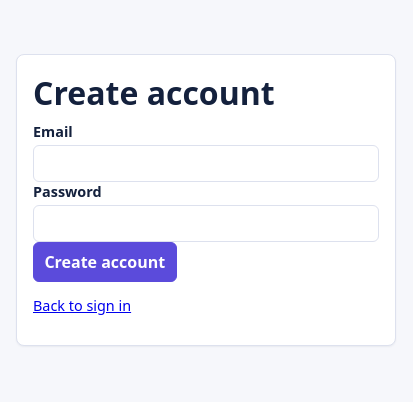
Test: authentication › validates sign-up and shows confirmation
The width and height of the screenshot is (413, 402).
Type "new@x.com" into the field labelled "Email" at (206, 163), box [33,145,379,182]
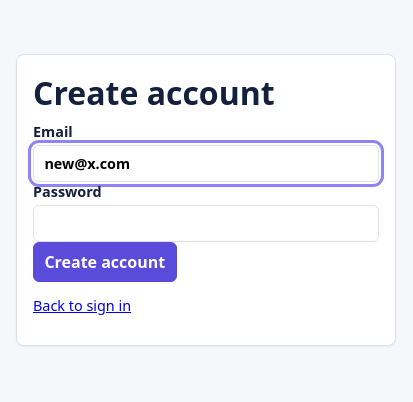
Type "short" into the password field labelled "Password" at (206, 223), box [33,205,379,242]
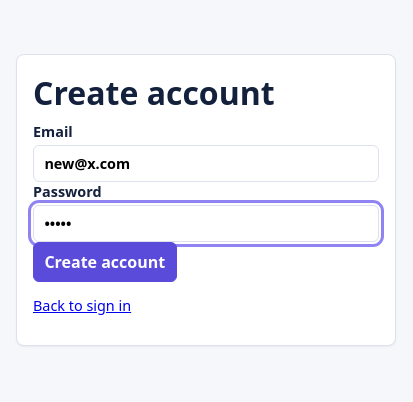
Click the button "Create account" at (105, 262), box [33,242,177,282]
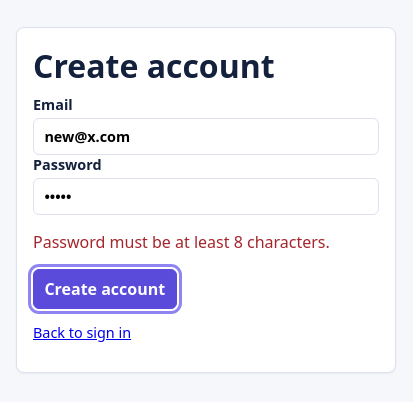
Expected: the message shows "at least 8", [33,231,330,253]
Type "longenough1" into the password field labelled "Password" at (206, 196), box [33,178,379,215]
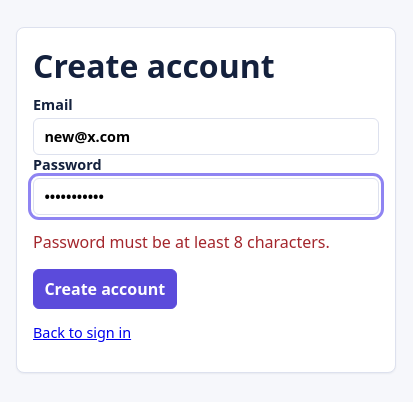
Click the button "Create account" at (105, 289), box [33,269,177,309]
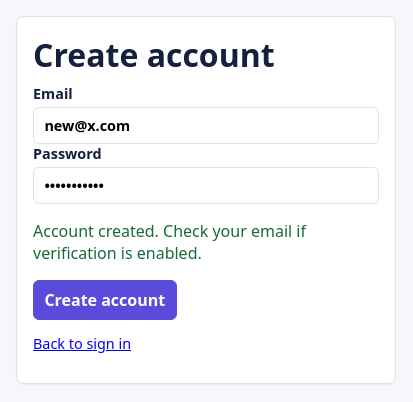
Expected: the message shows "Account created", [33,220,306,264]
